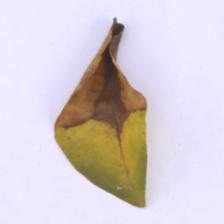black spot: (42, 32, 153, 117)
